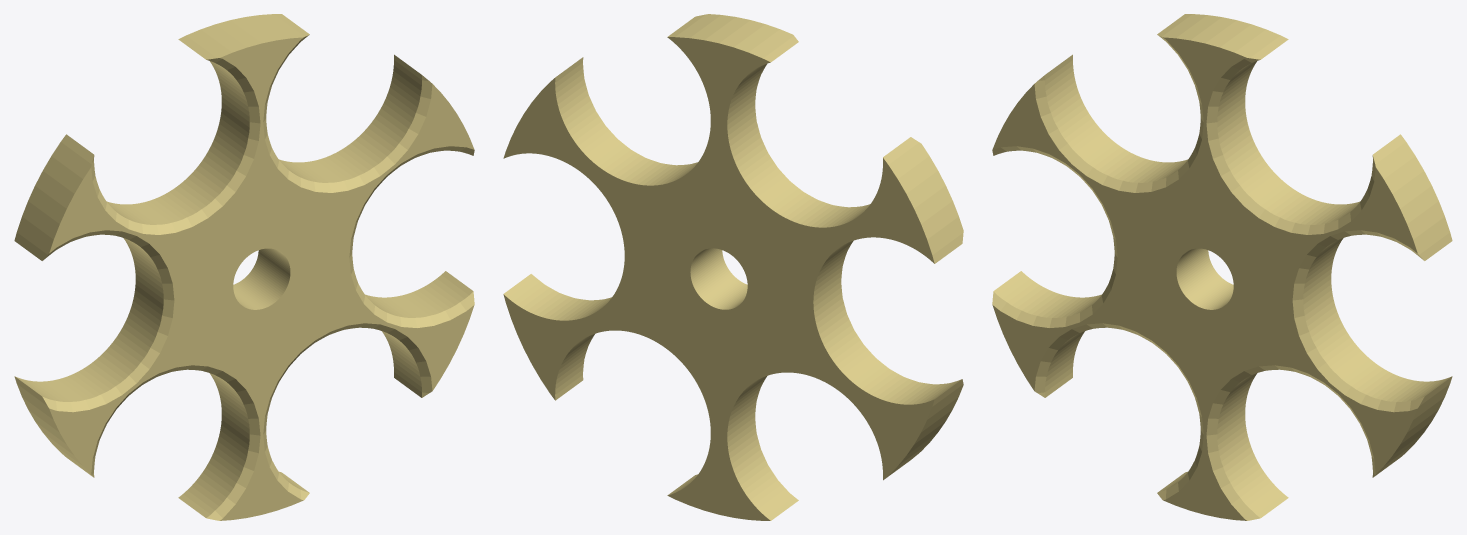
The model's file is star_wheel_demo.glb.
3 renders of one model, left to right at view 1: azimuth 30°, elevation 25°; view 2: azimuth 150°, elevation 25°; view 3: azimuth 330°, elevation 25°, orthographic.
Parts seen in each view (by area): view 1: star_wheel; view 2: star_wheel; view 3: star_wheel.
Boxes of the visible parts, x1,y1,x2,y2 form: star_wheel: (14,14,474,520); star_wheel: (503,14,963,520); star_wheel: (992,14,1452,520).
Size of the model in its own units: 62.62 by 65.4 by 8.
